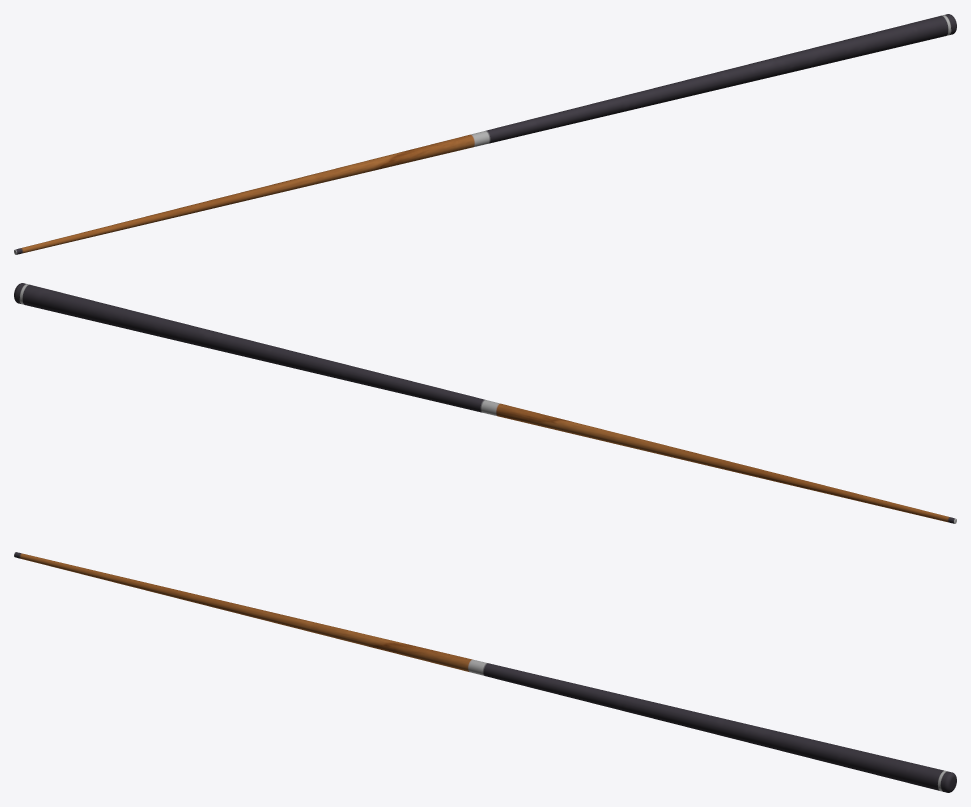
The model's file is SM_CueStick_01.fbx.
3 views of the same model, one above another, from view 1: azimuth 30°, elevation 25°; view 2: azimuth 150°, elevation 25°; view 3: azimuth 330°, elevation 25° (orthographic).
Parts seen in each view (by area): view 1: SM_CueStick_01_LOD0; view 2: SM_CueStick_01_LOD0; view 3: SM_CueStick_01_LOD0.
Boxes of the visible parts, x1,y1,x2,y2 form: SM_CueStick_01_LOD0: [14, 14, 956, 254]; SM_CueStick_01_LOD0: [14, 283, 956, 523]; SM_CueStick_01_LOD0: [14, 552, 956, 792].
Size of the model in its own units: 226 by 4.43 by 4.43.
Materials: 1 (1 with a texture image).
